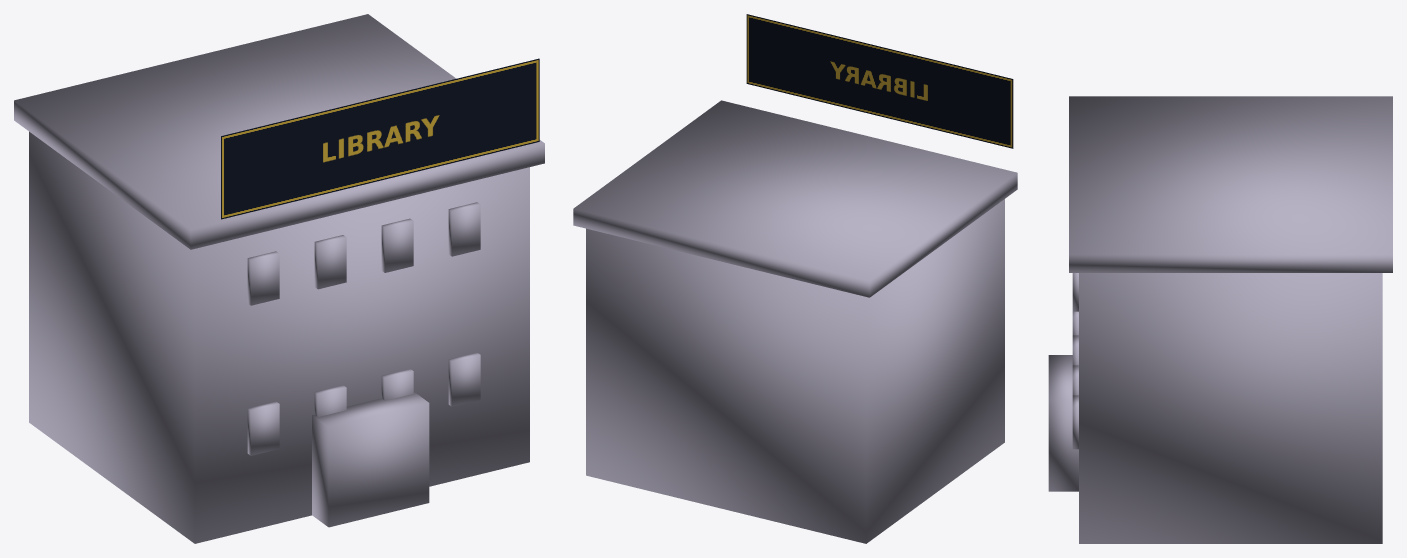
File: library.glb
The picture shows the model from 3 angles, left to right: view 1: azimuth 30°, elevation 25°; view 2: azimuth 150°, elevation 25°; view 3: azimuth 270°, elevation 25°; orthographic projection. The views are drawn at different scales.
Parts seen in each view (by area): view 1: Model, Sign; view 2: Model, Sign; view 3: Model.
Boxes of the visible parts, left/top/right/bottom form: Model: left=14, top=14, right=544, bottom=543; Sign: left=221, top=58, right=539, bottom=219; Model: left=573, top=100, right=1017, bottom=543; Sign: left=746, top=14, right=1013, bottom=148; Model: left=1048, top=96, right=1392, bottom=543.
Size of the model in its own units: 7.4 by 8.36 by 6.85.
1 material, 1 textured.
